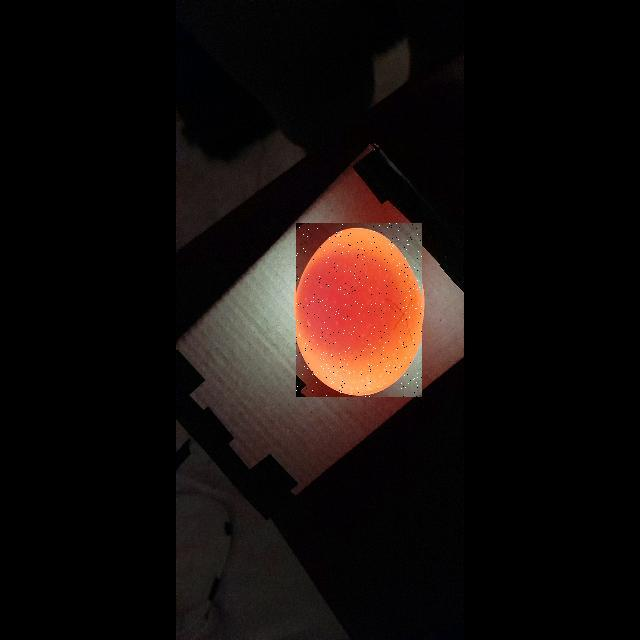Fertile: (296, 223, 422, 397)
